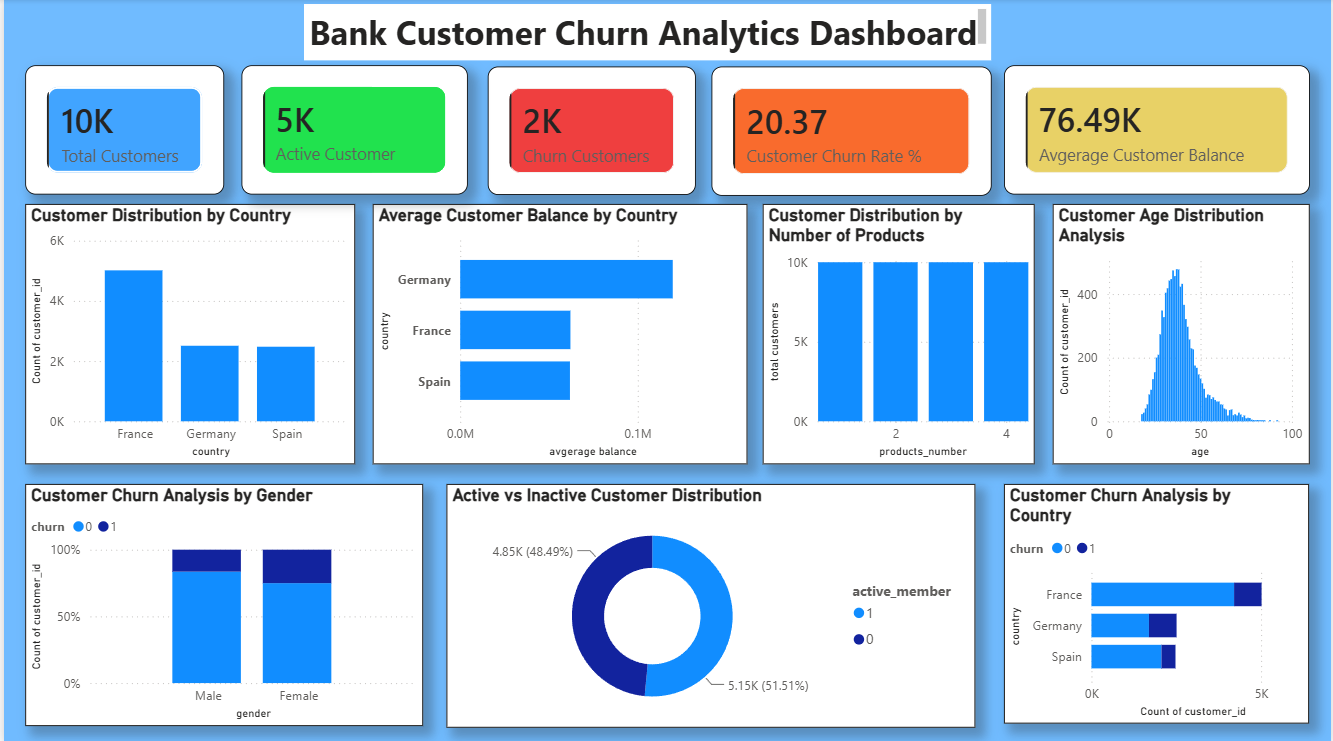

The dashboard page shown, as its layout file describes it:
{"tool":"powerbi","page":{"name":"Page 1","canvas":[1280,720],"ordinal":0},"visuals":[{"type":"cardVisual","fields":{"Data":["Bank Customer Churn Prediction.total customers"]},"box":[20,64,192,125],"z":0},{"type":"cardVisual","fields":{"Data":["Bank Customer Churn Prediction.churn customers"]},"box":[467,65,201,124],"z":1000},{"type":"cardVisual","fields":{"Data":["Bank Customer Churn Prediction.churn %"]},"box":[683,65,270,125],"z":2000},{"type":"cardVisual","fields":{"Data":["Bank Customer Churn Prediction.avgerage balance"]},"box":[965,64,295,125],"z":3000},{"type":"clusteredColumnChart","title":"Customer Distribution by Country","fields":{"Category":["Bank Customer Churn Prediction.country"],"Y":["CountNonNull(Bank Customer Churn Prediction.customer_id)"]},"box":[20,198.2,318.2,250.9],"z":4000},{"type":"hundredPercentStackedColumnChart","title":"Customer Churn Analysis by Gender","fields":{"Category":["Bank Customer Churn Prediction.gender"],"Series":["Bank Customer Churn Prediction.churn"],"Y":["CountNonNull(Bank Customer Churn Prediction.customer_id)"]},"box":[20.3,468.1,384.1,233.3],"z":5000},{"type":"clusteredBarChart","title":"Average Customer Balance by Country","fields":{"Category":["Bank Customer Churn Prediction.country"],"Y":["Bank Customer Churn Prediction.avgerage balance"]},"box":[355.5,198.2,361.8,250.9],"z":6000},{"type":"donutChart","title":"Active vs Inactive Customer Distribution","fields":{"Category":["Bank Customer Churn Prediction.active_member"],"Y":["CountNonNull(Bank Customer Churn Prediction.customer_id)"]},"box":[427.5,467.5,510,235],"z":7000},{"type":"columnChart","title":"Customer Distribution by Number of Products","fields":{"Category":["Bank Customer Churn Prediction.products_number"],"Y":["Bank Customer Churn Prediction.total customers"]},"box":[731.8,198.2,262.7,250.9],"z":8000},{"type":"clusteredColumnChart","title":"Customer Age Distribution Analysis","fields":{"Category":["Bank Customer Churn Prediction.age"],"Y":["CountNonNull(Bank Customer Churn Prediction.customer_id)"]},"box":[1011.8,198.2,248.2,250.9],"z":9000},{"type":"barChart","title":"Customer Churn Analysis by Country","fields":{"Category":["Bank Customer Churn Prediction.country"],"Series":["Bank Customer Churn Prediction.churn"],"Y":["CountNonNull(Bank Customer Churn Prediction.customer_id)"]},"box":[965.7,468.6,294.3,231.4],"z":10000},{"type":"cardVisual","fields":{"Data":["Sum(Bank Customer Churn Prediction.active_member)"]},"box":[229,64,218,125],"z":11000},{"type":"textbox","box":[289.5,4.8,663.3,54.8],"z":12000}]}

Visuals, with their boxes in screenshot pixels (x1, y1, x2, y2), scaled from the page's 1280x720 canvas onto the 1333x741 screenshot:
cardVisual - Bank Customer Churn Prediction.total customers: pyautogui.locateOnScreen(21, 66, 221, 195)
cardVisual - Bank Customer Churn Prediction.churn customers: pyautogui.locateOnScreen(486, 67, 696, 195)
cardVisual - Bank Customer Churn Prediction.churn %: pyautogui.locateOnScreen(711, 67, 992, 196)
cardVisual - Bank Customer Churn Prediction.avgerage balance: pyautogui.locateOnScreen(1005, 66, 1312, 195)
"Customer Distribution by Country" clusteredColumnChart: pyautogui.locateOnScreen(21, 204, 352, 462)
"Customer Churn Analysis by Gender" hundredPercentStackedColumnChart: pyautogui.locateOnScreen(21, 482, 421, 722)
"Average Customer Balance by Country" clusteredBarChart: pyautogui.locateOnScreen(370, 204, 747, 462)
"Active vs Inactive Customer Distribution" donutChart: pyautogui.locateOnScreen(445, 481, 976, 723)
"Customer Distribution by Number of Products" columnChart: pyautogui.locateOnScreen(762, 204, 1036, 462)
"Customer Age Distribution Analysis" clusteredColumnChart: pyautogui.locateOnScreen(1054, 204, 1312, 462)
"Customer Churn Analysis by Country" barChart: pyautogui.locateOnScreen(1006, 482, 1312, 720)
cardVisual - Sum(Bank Customer Churn Prediction.active_member): pyautogui.locateOnScreen(238, 66, 466, 195)
textbox: pyautogui.locateOnScreen(301, 5, 992, 61)
